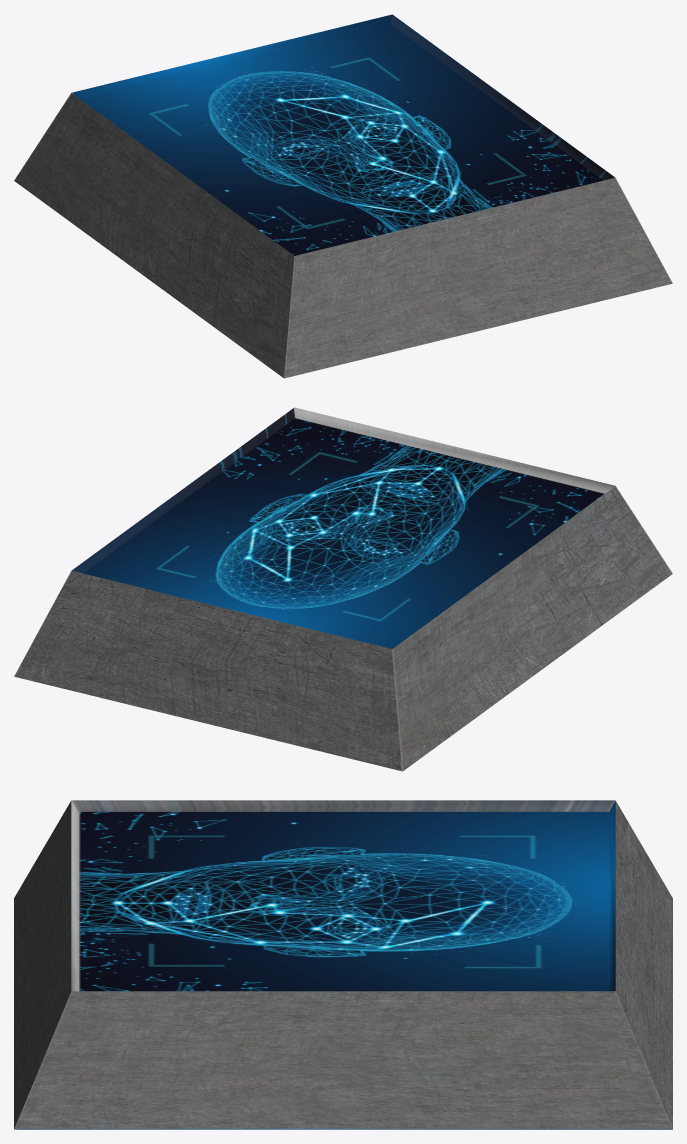
Rendered from FaceScannerFBX.fbx.
The picture shows the model from 3 angles, top to bottom: view 1: azimuth 30°, elevation 25°; view 2: azimuth 150°, elevation 25°; view 3: azimuth 270°, elevation 25°; orthographic projection. The views are drawn at different scales.
Visible parts, largest first — view 1: pCube1; view 2: pCube1; view 3: pCube1.
Part boxes in pixels (x1=…): pCube1: x1=14, y1=14, x2=672, y2=378; pCube1: x1=14, y1=407, x2=672, y2=771; pCube1: x1=14, y1=800, x2=672, y2=1129.
Size of the model in its own units: 2.81 by 0.669 by 3.38.
1 material, 1 textured.
